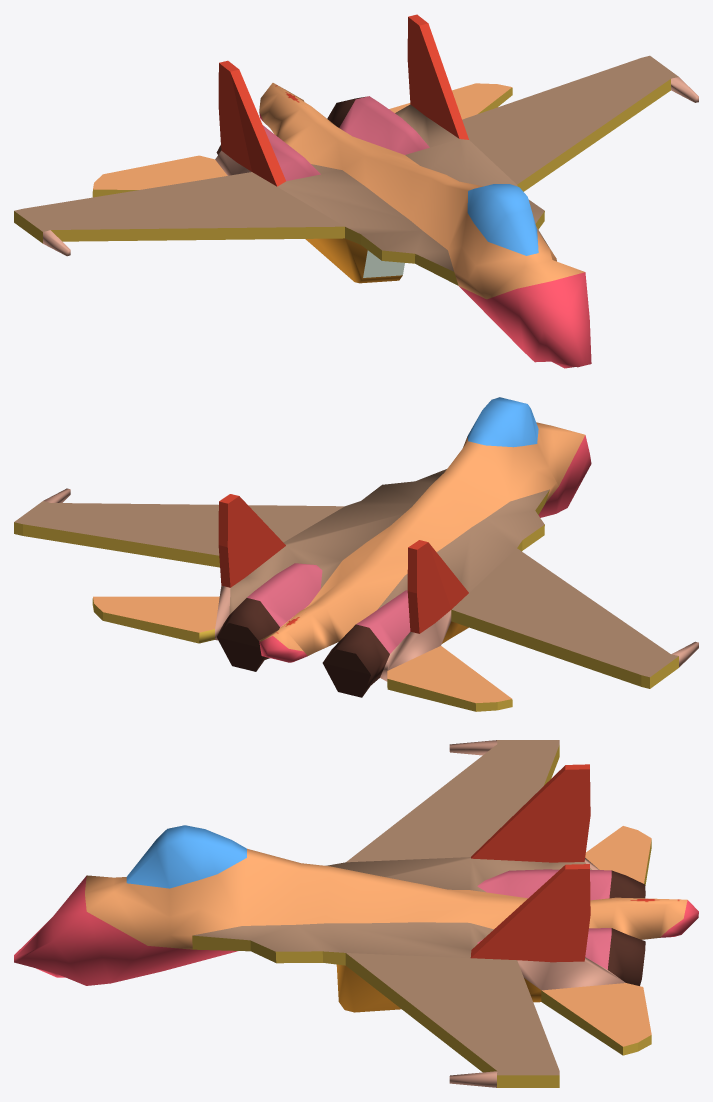
File: jet.fbx
3 renders of one model, top to bottom at view 1: azimuth 30°, elevation 25°; view 2: azimuth 150°, elevation 25°; view 3: azimuth 270°, elevation 25°, orthographic. The views are drawn at different scales.
Visible parts, largest first — view 1: Cube; view 2: Cube; view 3: Cube.
Boxes of the visible parts, box(x1,y1,x2,y2) form: Cube: box(14, 14, 698, 368); Cube: box(14, 397, 698, 711); Cube: box(14, 740, 698, 1087).
Bounding box in the file's own units: 6.62 × 1.52 × 5.72.
